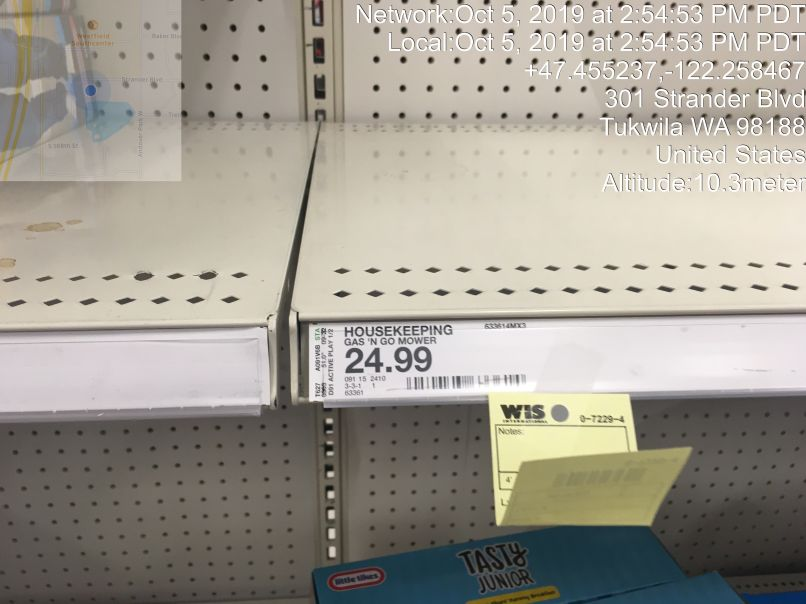Label: (310, 317, 545, 398)
Location: (593, 83, 806, 169)
Time: (352, 3, 806, 59)
Void: (6, 32, 787, 269)
